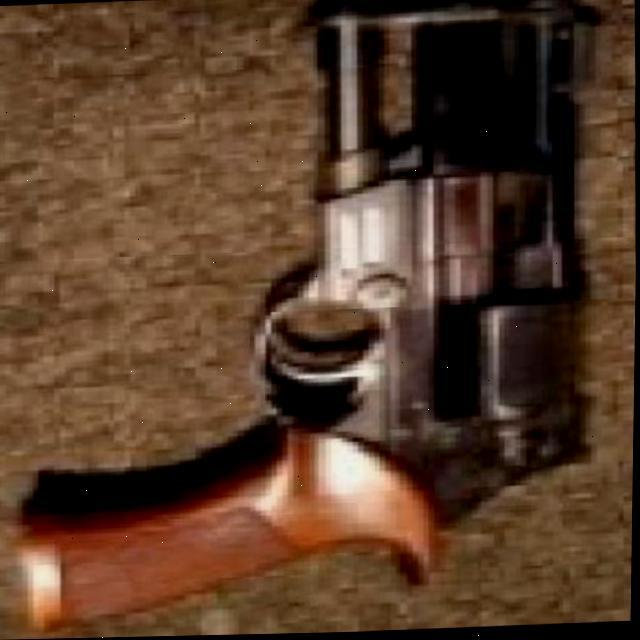gun: (12, 0, 616, 634)
